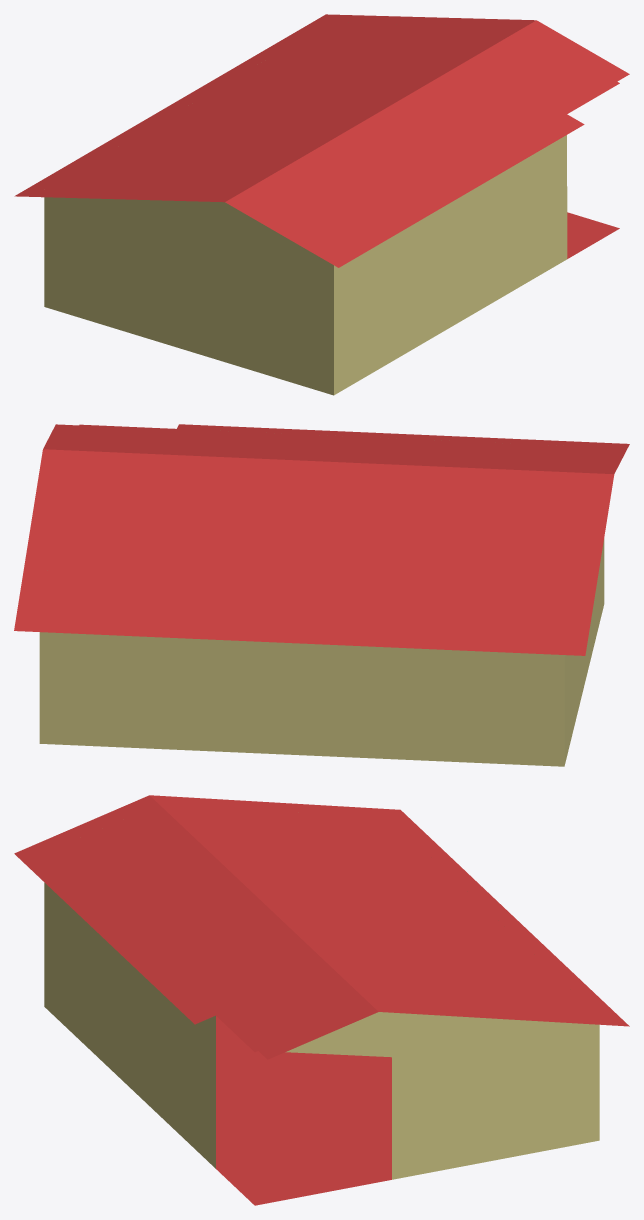
3 renders of one model, top to bottom at view 1: azimuth 30°, elevation 25°; view 2: azimuth 150°, elevation 25°; view 3: azimuth 270°, elevation 25°, orthographic. The views are drawn at different scales.
Size of the model in its own units: 29.44 by 26.88 by 8.72.
